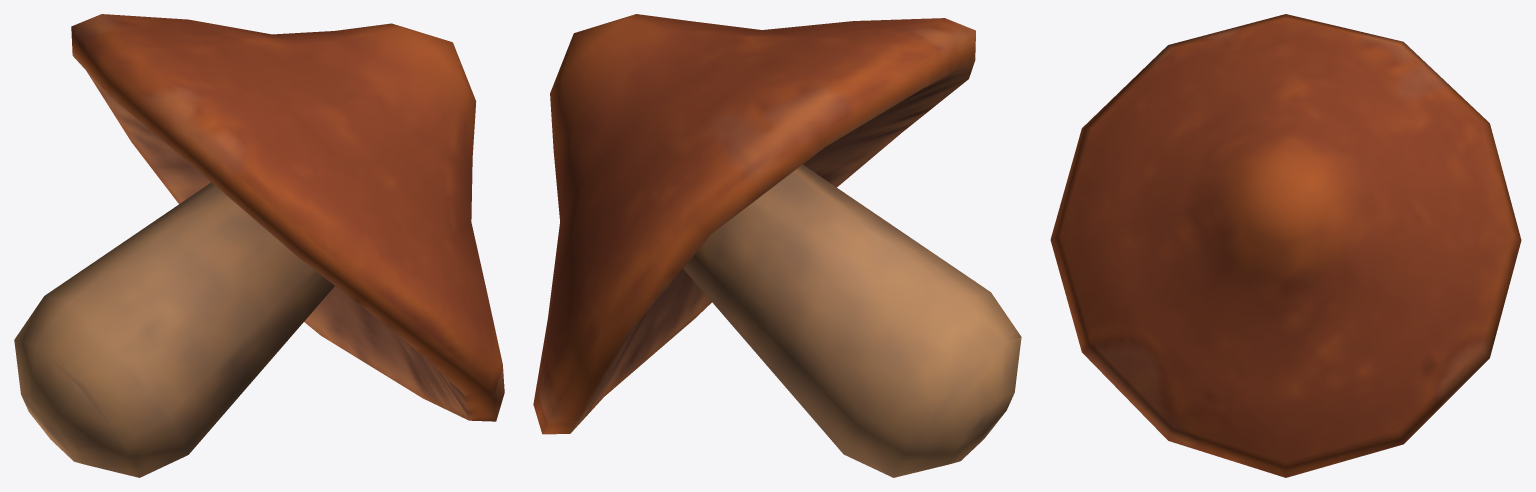
3 views of the same model, side by side, from view 1: azimuth 30°, elevation 25°; view 2: azimuth 150°, elevation 25°; view 3: azimuth 270°, elevation 25° (orthographic). The views are drawn at different scales.
Parts seen in each view (by area): view 1: submesh_0; view 2: submesh_0; view 3: submesh_0.
Boxes of the visible parts, <box> form: submesh_0: <box>14,14,504,477</box>; submesh_0: <box>533,14,1021,477</box>; submesh_0: <box>1050,14,1521,477</box>.
Size of the model in its own units: 0.1763 by 0.1626 by 0.2051.
1 material, 1 textured.
